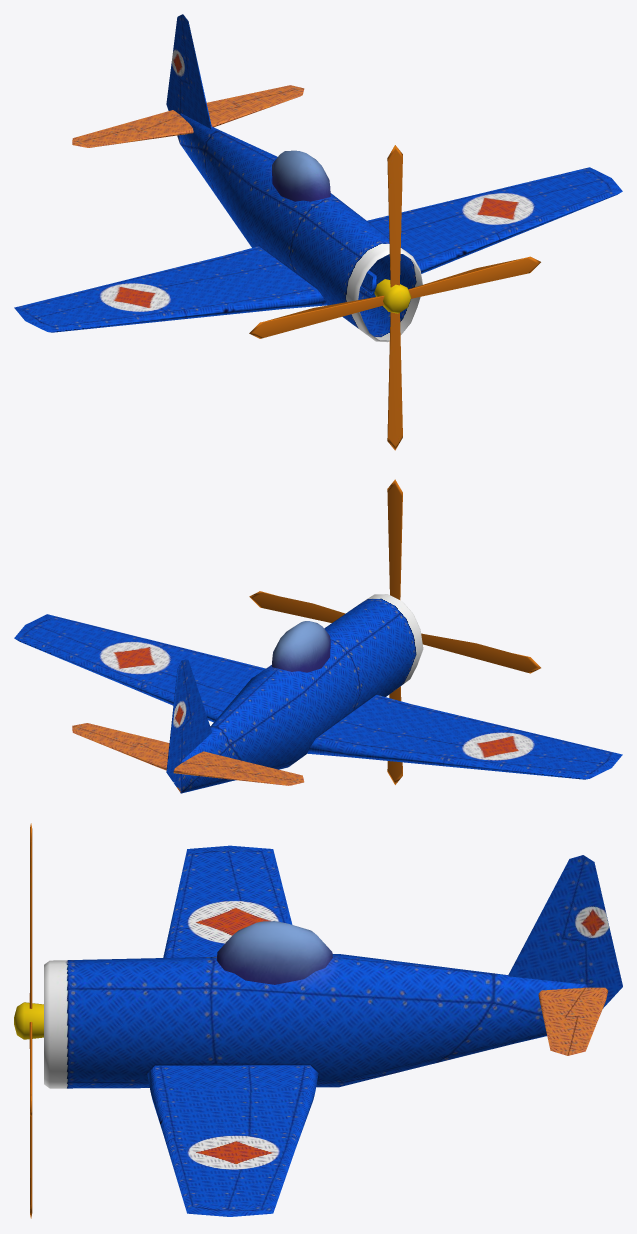
The model's file is AvionJugador_V2.fbx.
3 views of the same model, one above another, from view 1: azimuth 30°, elevation 25°; view 2: azimuth 150°, elevation 25°; view 3: azimuth 270°, elevation 25° (orthographic). The views are drawn at different scales.
Visible parts, largest first — view 1: AvionJugador, Aspas; view 2: AvionJugador, Aspas; view 3: AvionJugador, Aspas.
Boxes of the visible parts, <box> form: AvionJugador: <box>14,14,622,342</box>; Aspas: <box>249,145,540,450</box>; AvionJugador: <box>14,594,622,793</box>; Aspas: <box>249,479,540,784</box>; AvionJugador: <box>14,845,622,1216</box>; Aspas: <box>29,823,32,1218</box>.
Bounding box in the file's own units: 420 × 210 × 291.
